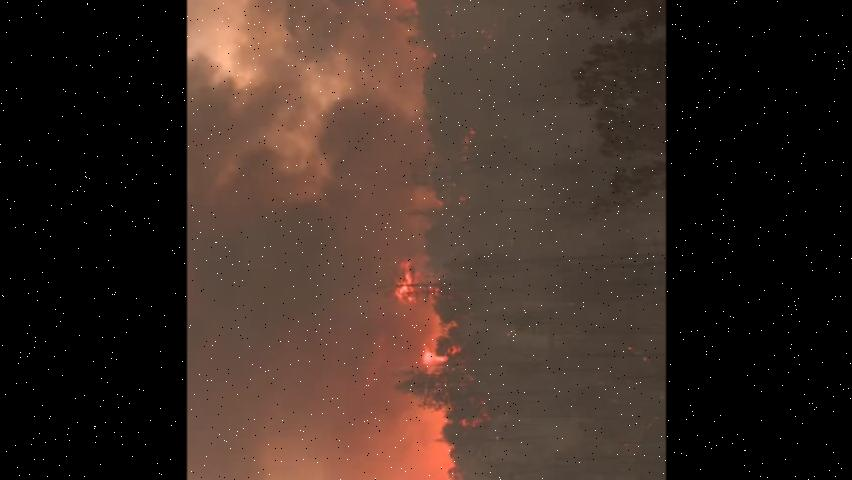fire: (372, 0, 512, 464)
